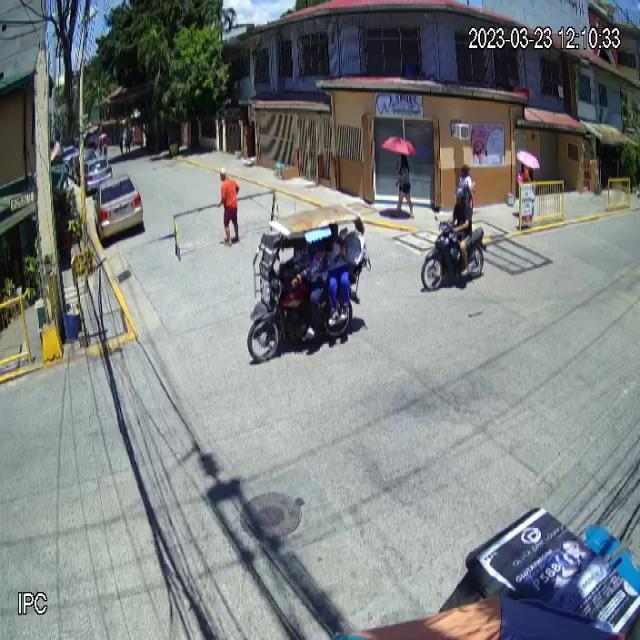Motorcycle: (420, 213, 487, 294)
Tricycle: (246, 204, 371, 367)
